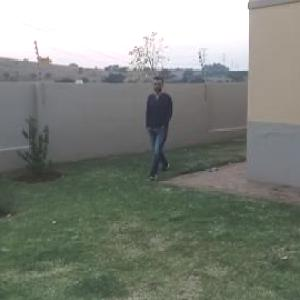follow: (143, 73, 180, 180)
